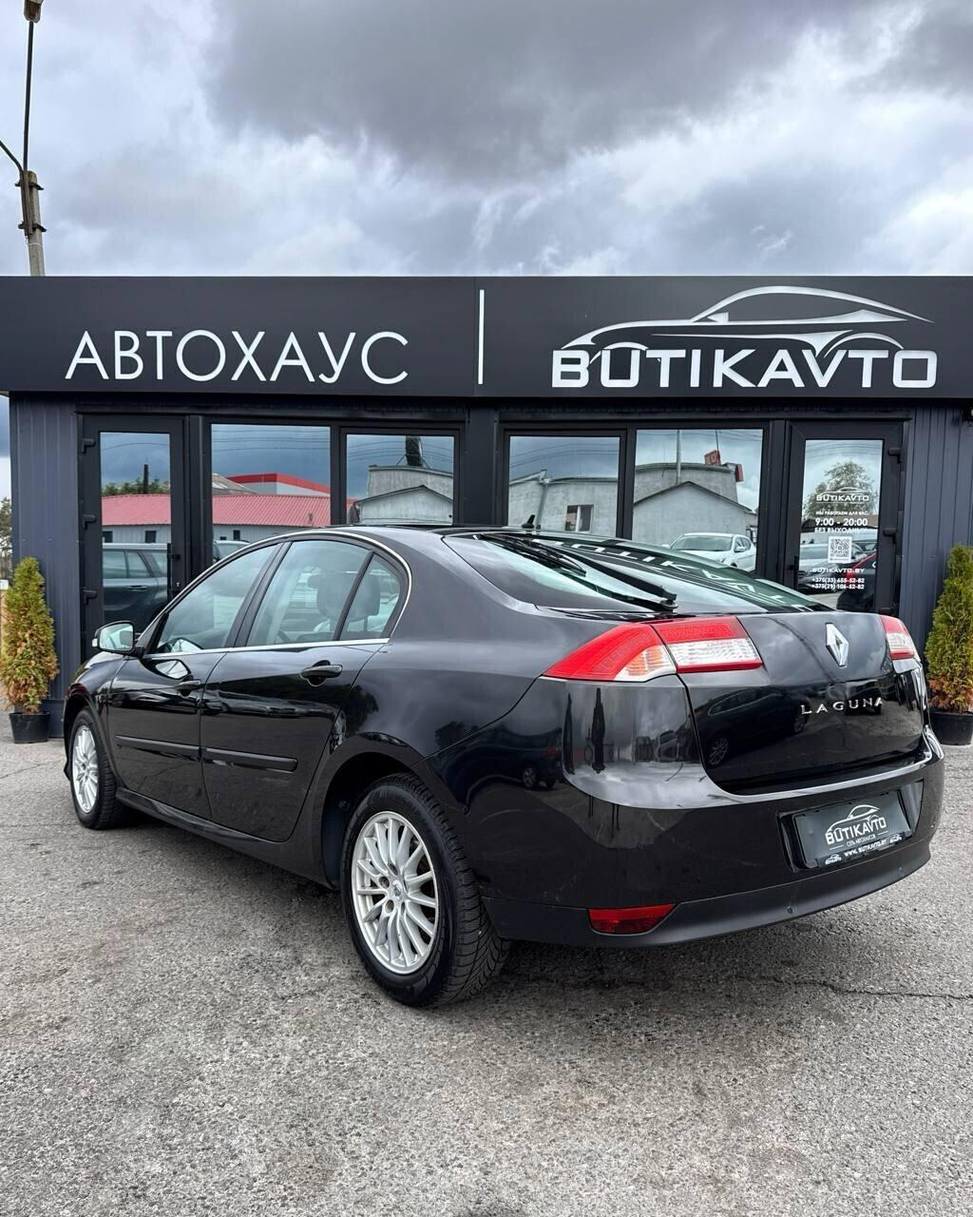Laguna_2010-2015: (54, 525, 942, 1006)
